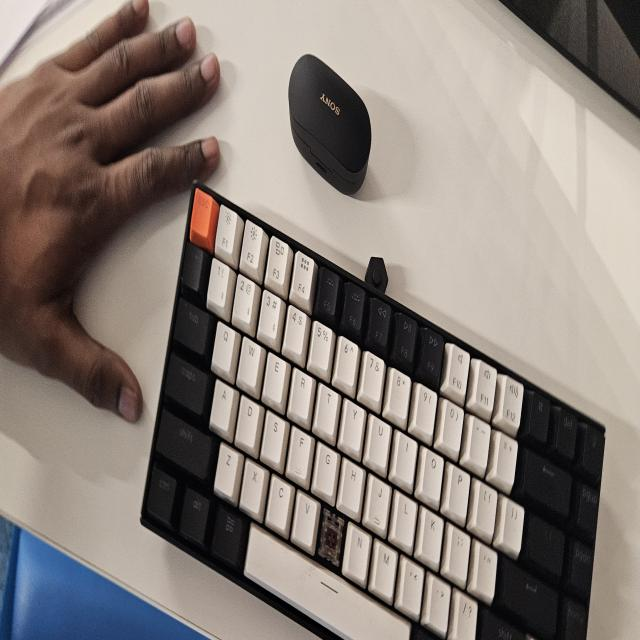C: (323, 516, 341, 565)
